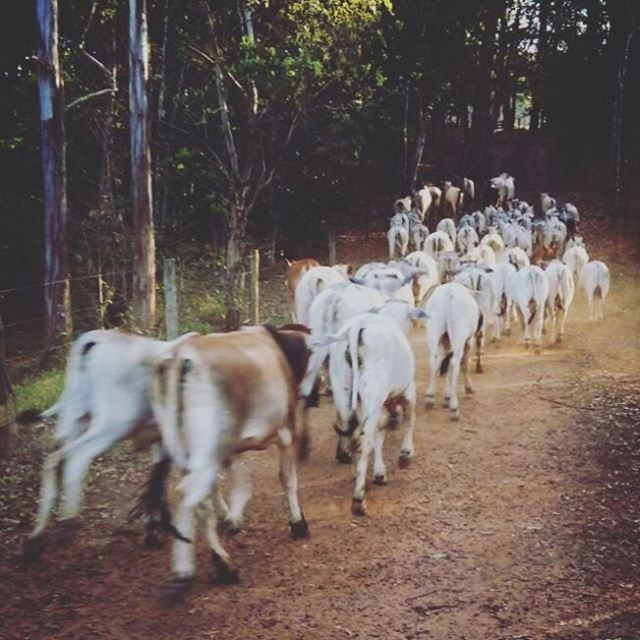Cattle: (15, 174, 610, 591)
